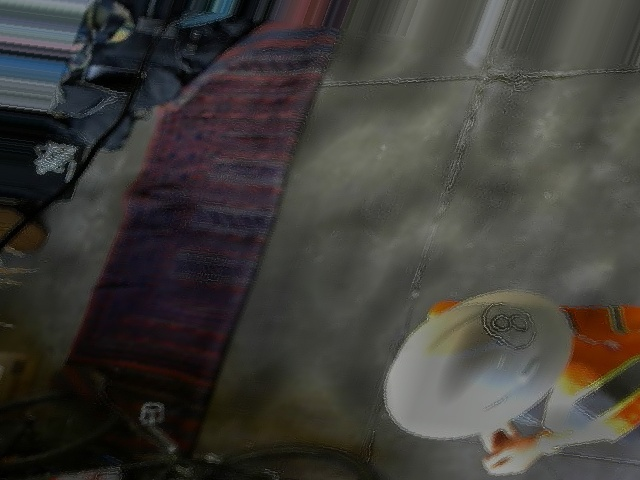eight: (470, 299, 547, 349)
